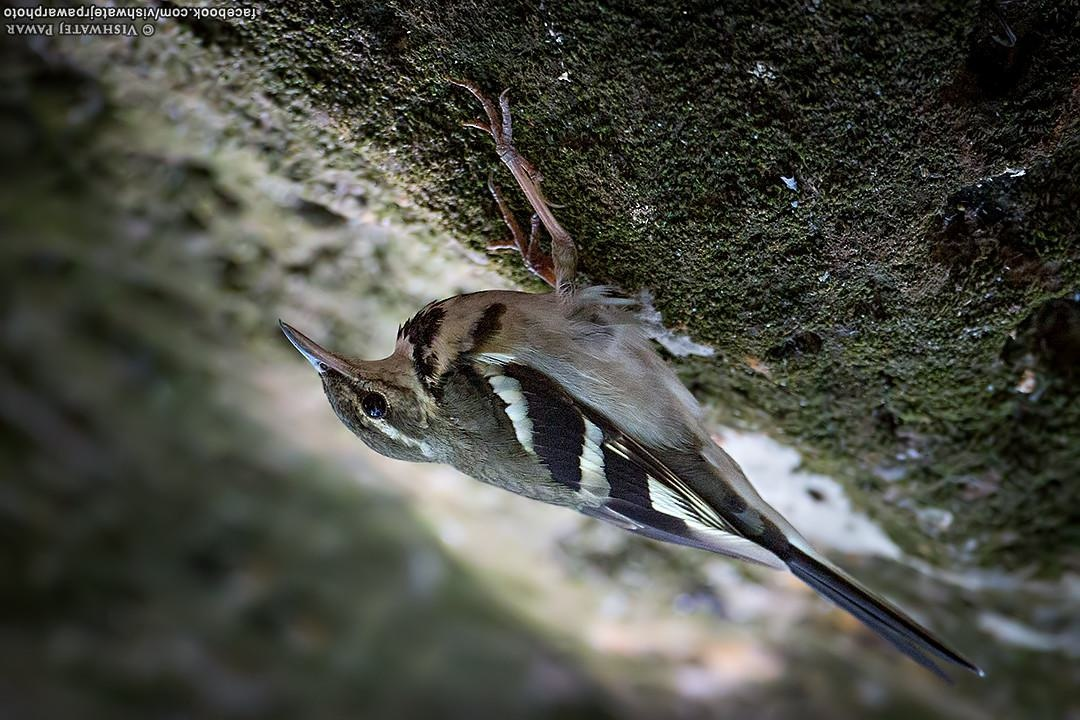wagtail: (266, 222, 882, 644)
